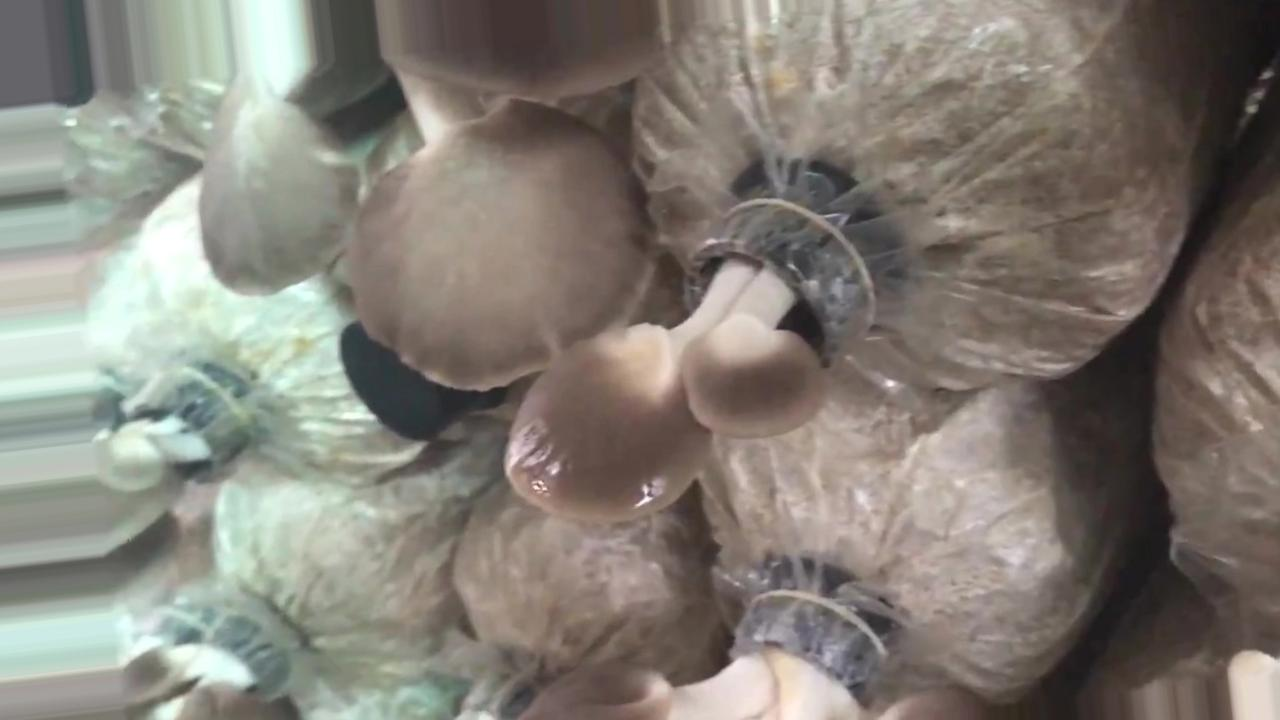nam: (205, 1, 699, 391), (506, 167, 877, 530), (519, 568, 1009, 720), (92, 360, 242, 495), (122, 625, 284, 720)
